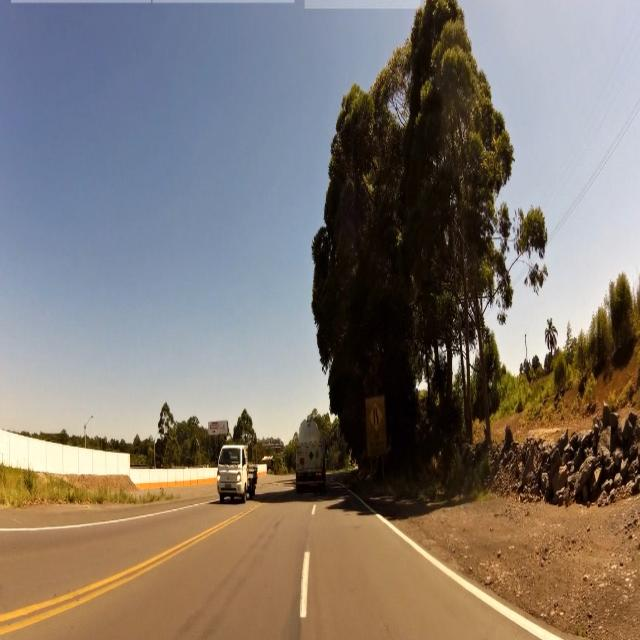A-21c: (370, 399, 383, 434)
